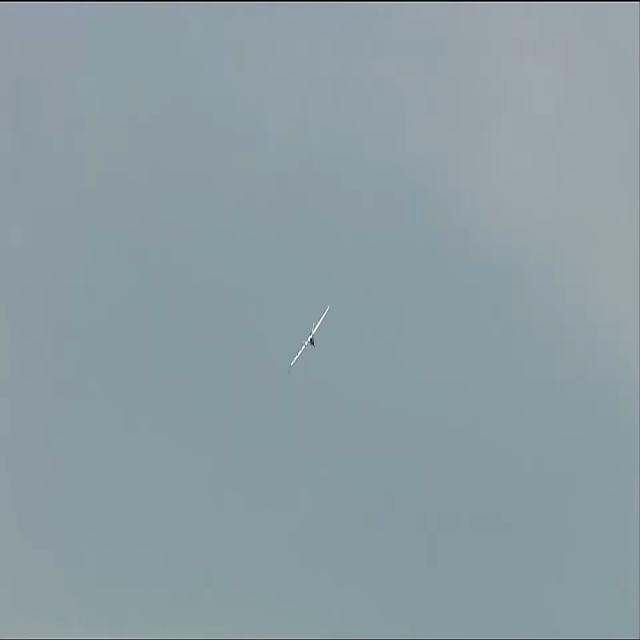iha: (291, 303, 330, 363)
